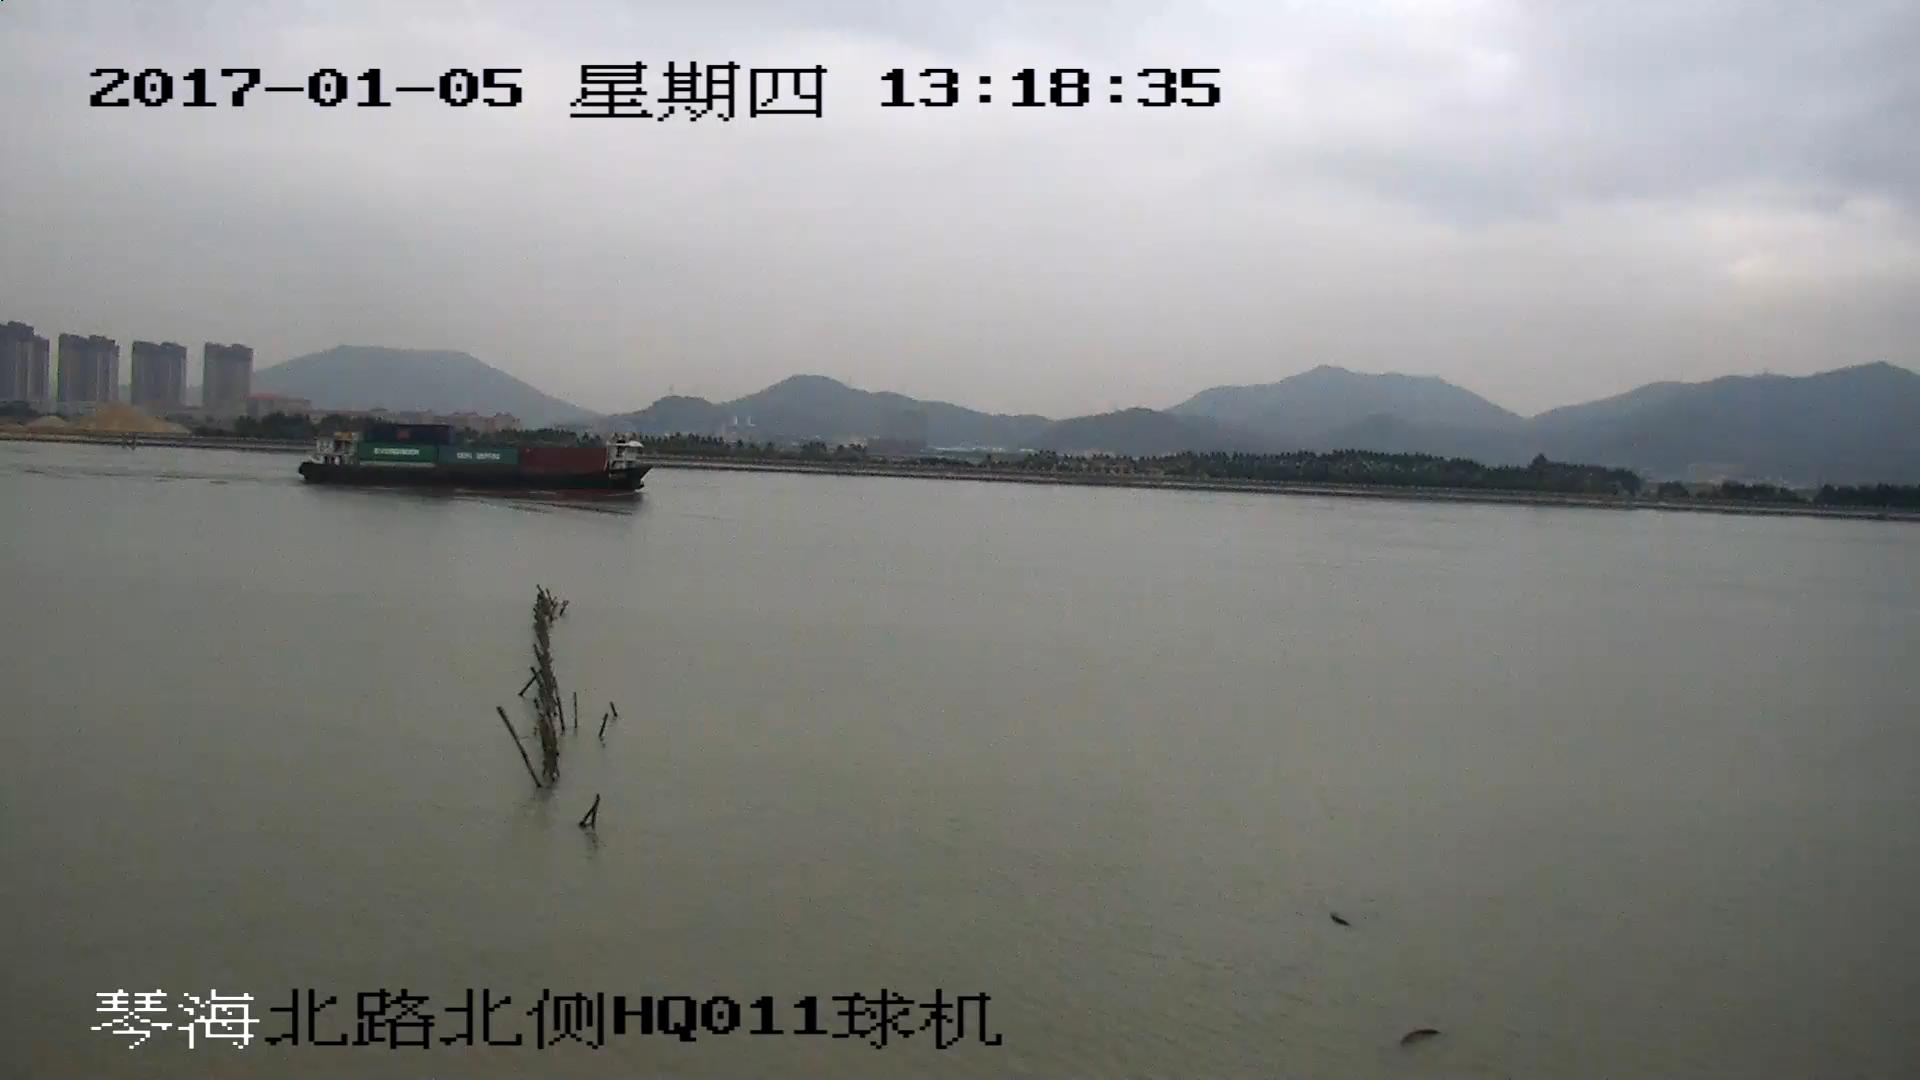container ship: (296, 415, 646, 492)
